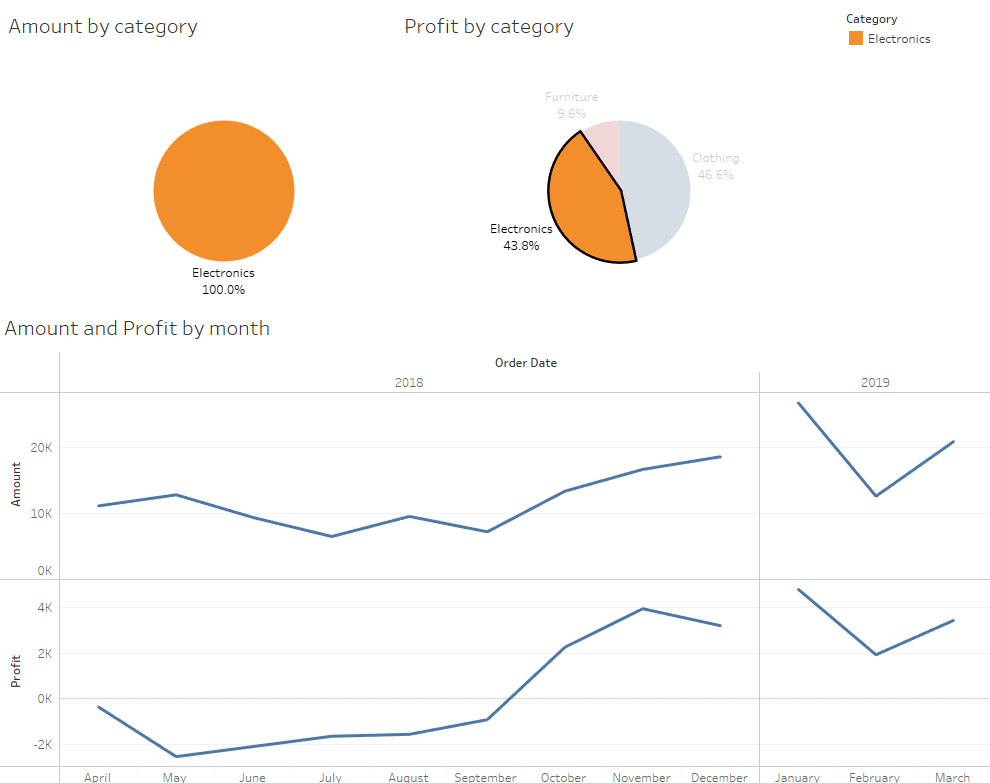

The dashboard page shown, as its layout file describes it:
{"tool":"tableau","page":{"name":"Dashboard 1","canvas":[1000,800],"ordinal":0},"visuals":[{"type":"worksheet","title":"Sheet 1","mark":"Pie","box":[6,14,440,325]},{"type":"worksheet","title":"Sheet 2","mark":"Pie","box":[402,14,440,325]},{"type":"legend","title":"Sheet 1","param":"[federated.0m88nqi1w2g4np1cgb4lk1v1m7ds].[none:Category:nk]","box":[848,17,140,78]},{"type":"worksheet","title":"Sheet 3","mark":"Automatic","rows":["Amount","Profit"],"cols":["Order Date","Order Date"],"box":[2,316,993,479]}]}

Visuals, with their boxes in screenshot pixels (x1, y1, x2, y2), scaled from the page's 1000x800 canvas onto the 990x783 screenshot:
"Sheet 1" worksheet (Pie marks): [x1=6, y1=14, x2=442, y2=332]
"Sheet 2" worksheet (Pie marks): [x1=398, y1=14, x2=834, y2=332]
"Sheet 1" legend: [x1=840, y1=17, x2=978, y2=93]
"Sheet 3" worksheet: [x1=2, y1=309, x2=985, y2=778]
